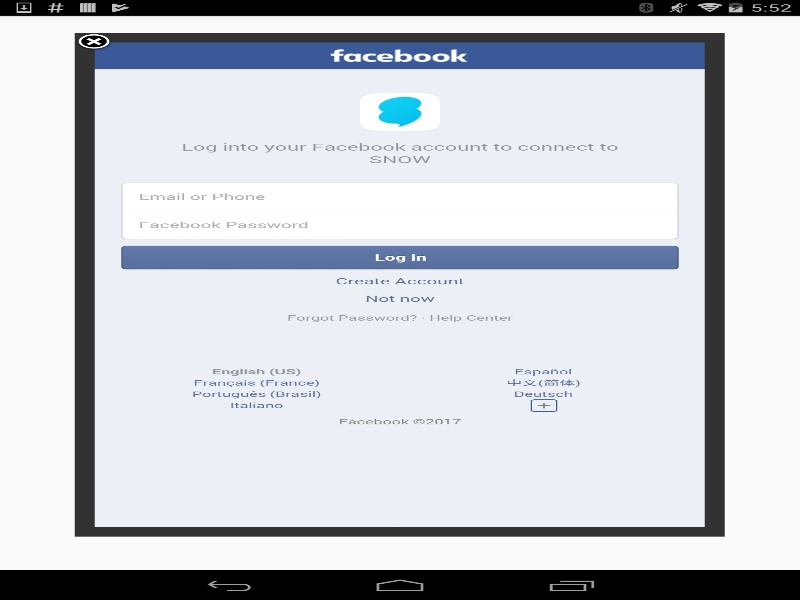Button: (122, 246, 677, 268)
Input: (122, 183, 677, 211), (122, 211, 677, 238)
